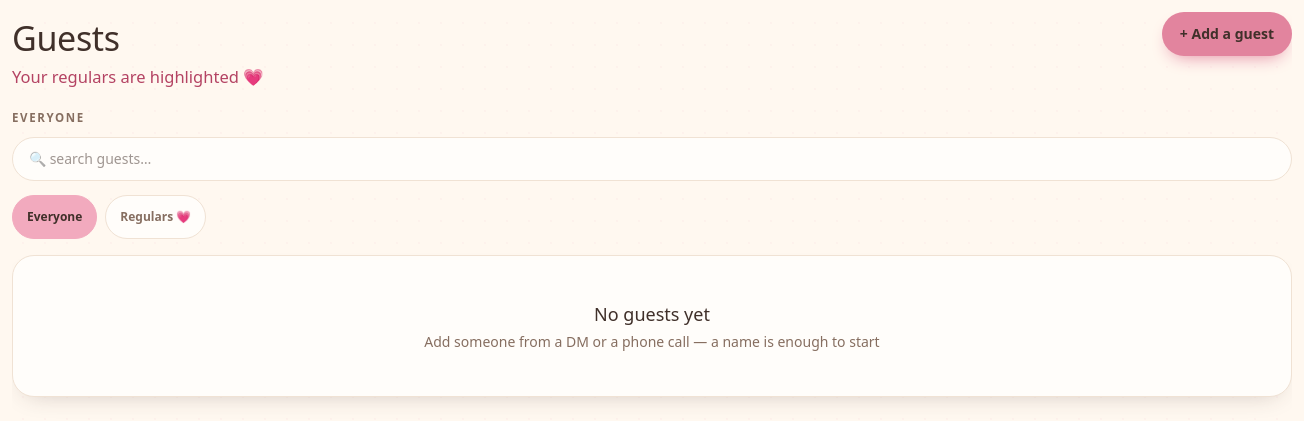
GuestList › distinguishes an empty search from an empty roster
Expected: the text "No guests yet" is shown, left=594, top=302, right=710, bottom=326
Type "zzz" into the search field labelled "search guests".
click(652, 158); type("zzz")  # box left=12, top=136, right=1292, bottom=180
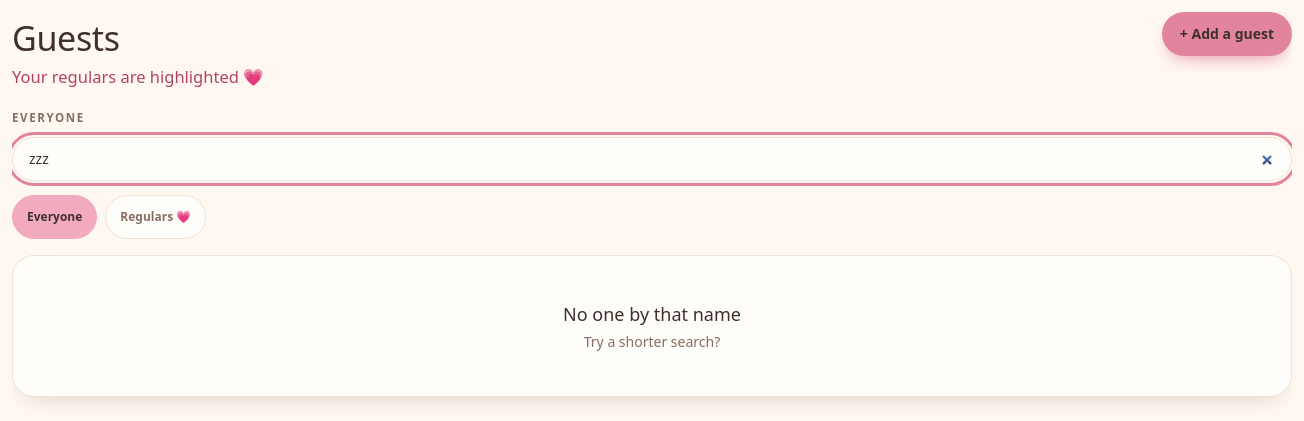
Now the text "Try a shorter search?" is shown, box left=584, top=332, right=720, bottom=350
